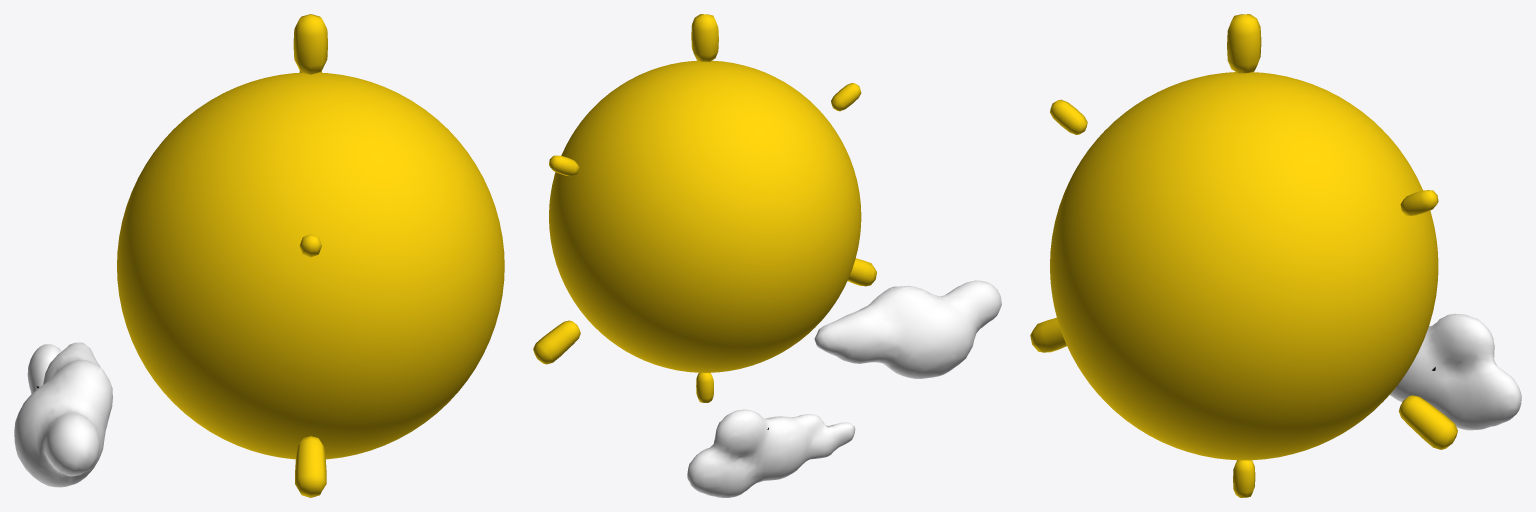
File: Sol.obj
The picture shows the model from 3 angles, left to right: view 1: azimuth 30°, elevation 25°; view 2: azimuth 150°, elevation 25°; view 3: azimuth 270°, elevation 25°; orthographic projection. The views are drawn at different scales.
Visible parts, largest first — view 1: Sol5:Mesh; view 2: Sol5:Mesh; view 3: Sol5:Mesh.
Part boxes in pixels (x1,y1,x2,y2): Sol5:Mesh: (14,14,504,497); Sol5:Mesh: (533,14,1001,497); Sol5:Mesh: (1030,14,1521,497).
Size of the model in its own units: 5.33 by 5.12 by 4.72.
1 material, 1 textured.
